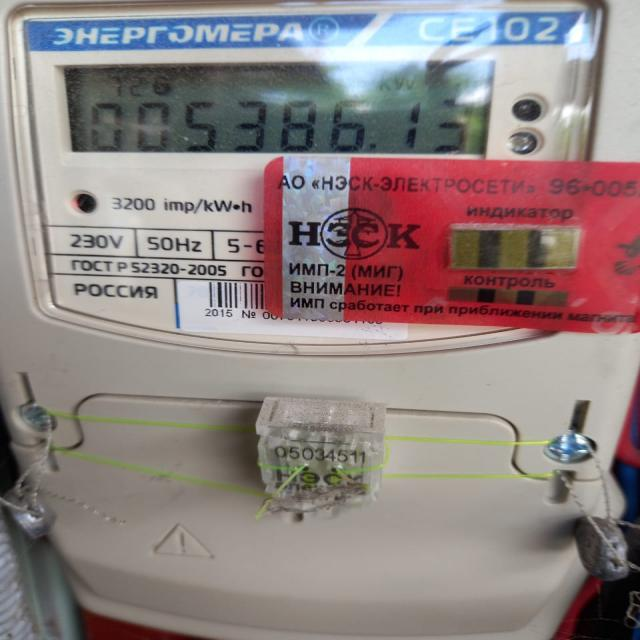Display: (51, 52, 501, 162)
meter_energomer: (0, 0, 640, 624)
seal_elso: (231, 388, 403, 524)
seal_imp: (264, 153, 640, 327)
